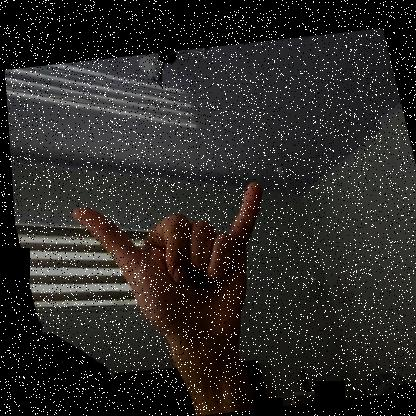Y: (65, 166, 298, 365)
